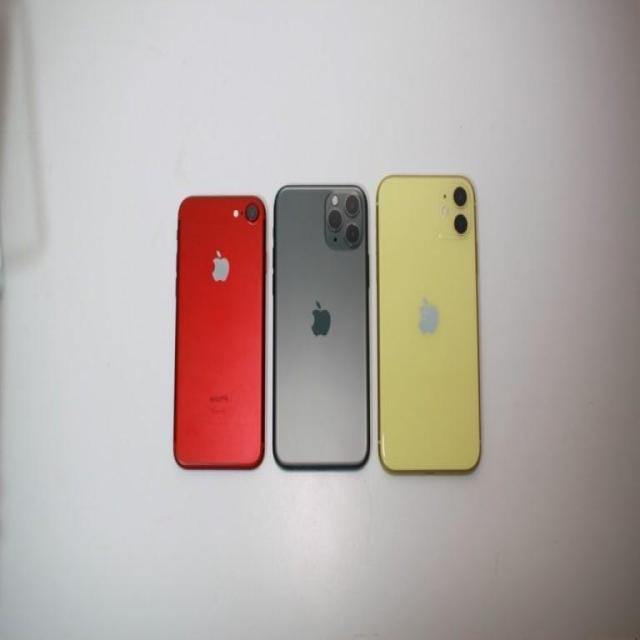mobile: (376, 175, 481, 477), (272, 184, 369, 470), (172, 195, 266, 469)
